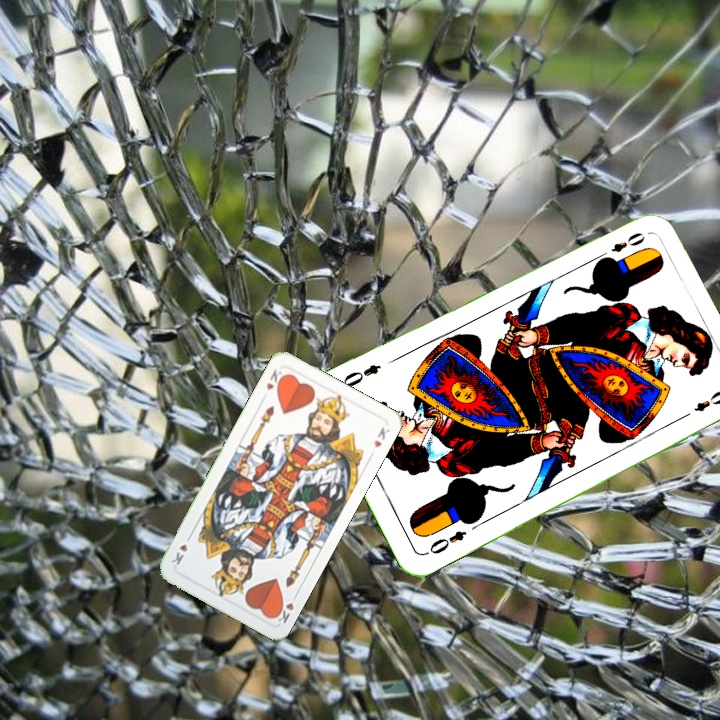EO: (594, 228, 648, 263), (421, 526, 469, 558)
HK: (270, 589, 301, 626), (262, 365, 288, 393)
